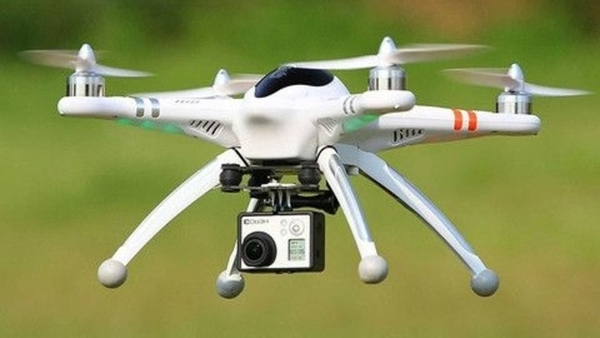drone: (14, 35, 595, 300)
